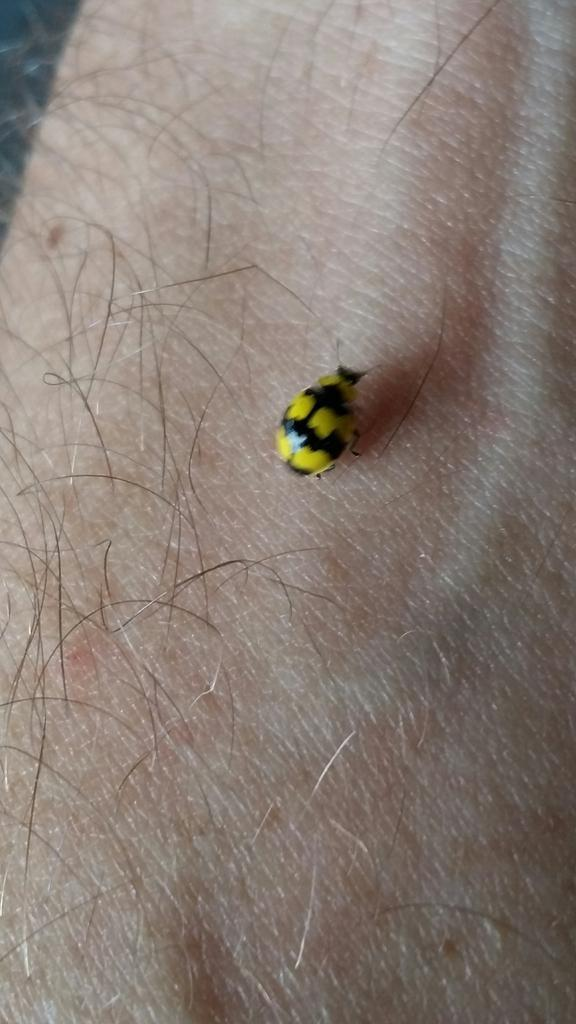ladybug: (274, 339, 387, 481)
